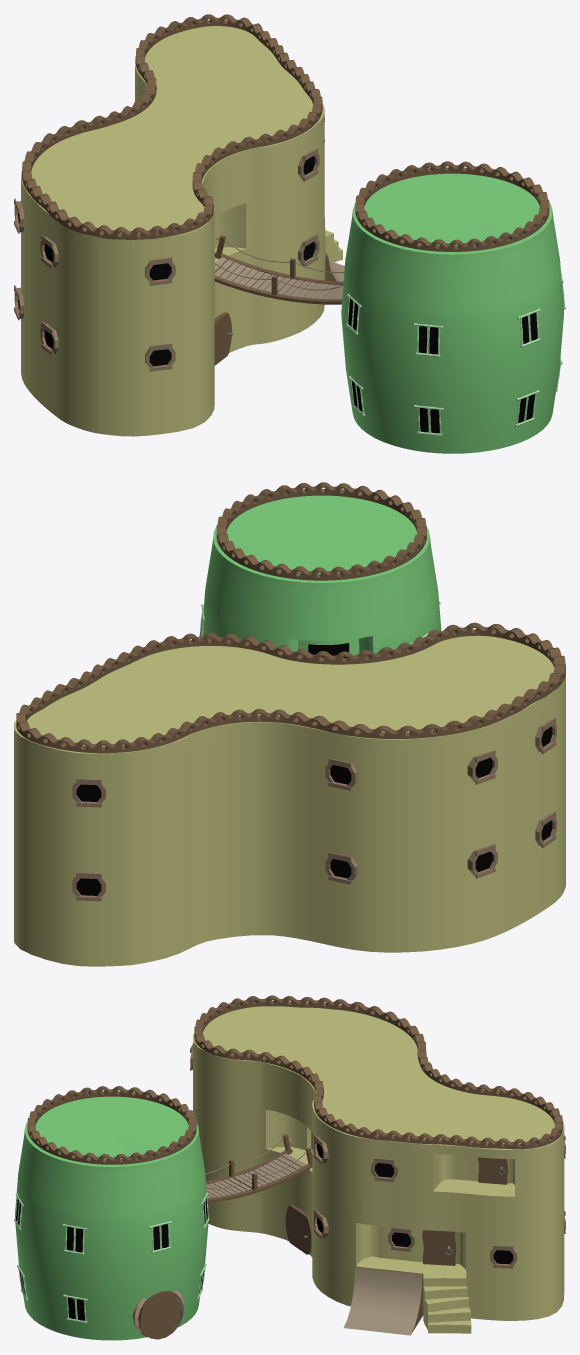
The model's file is residential_building_02_merged.fbx.
The picture shows the model from 3 angles, top to bottom: view 1: azimuth 30°, elevation 25°; view 2: azimuth 150°, elevation 25°; view 3: azimuth 270°, elevation 25°; orthographic projection. The views are drawn at different scales.
Parts seen in each view (by area): view 1: residential_building_002, round_building, topper_01, topper_02, wood_windows, bamboo_windows, bridge, rope_fence, door_01; view 2: residential_building_002, round_building, topper_01, wood_windows, topper_02; view 3: residential_building_002, round_building, topper_01, topper_02, wood_windows, bridge, bamboo_windows, door_02, door_03, door_01, rope_fence.
Boxes of the visible parts, box(x1,y1,x2,y2) form: residential_building_002: box(21, 26, 344, 436); round_building: box(341, 173, 563, 453); topper_01: box(22, 14, 322, 239); topper_02: box(355, 161, 549, 251); wood_windows: box(14, 118, 324, 371); bamboo_windows: box(345, 273, 565, 436); bridge: box(214, 251, 343, 304); rope_fence: box(214, 235, 344, 295); door_01: box(214, 312, 232, 365); residential_building_002: box(14, 635, 565, 966); round_building: box(203, 495, 441, 657); topper_01: box(16, 622, 565, 753); wood_windows: box(72, 717, 556, 901); topper_02: box(216, 482, 426, 580); residential_building_002: box(193, 1006, 564, 1335); round_building: box(15, 1096, 208, 1340); topper_01: box(194, 995, 562, 1149); topper_02: box(27, 1086, 196, 1164); wood_windows: box(190, 1044, 565, 1268); bridge: box(206, 1149, 312, 1202); bamboo_windows: box(14, 1192, 209, 1323); door_02: box(132, 1290, 184, 1339); door_03: box(422, 1157, 508, 1265); door_01: box(285, 1205, 311, 1254); rope_fence: box(205, 1134, 312, 1190).
Bounding box in the file's own units: 2398 × 1187 × 3252.
